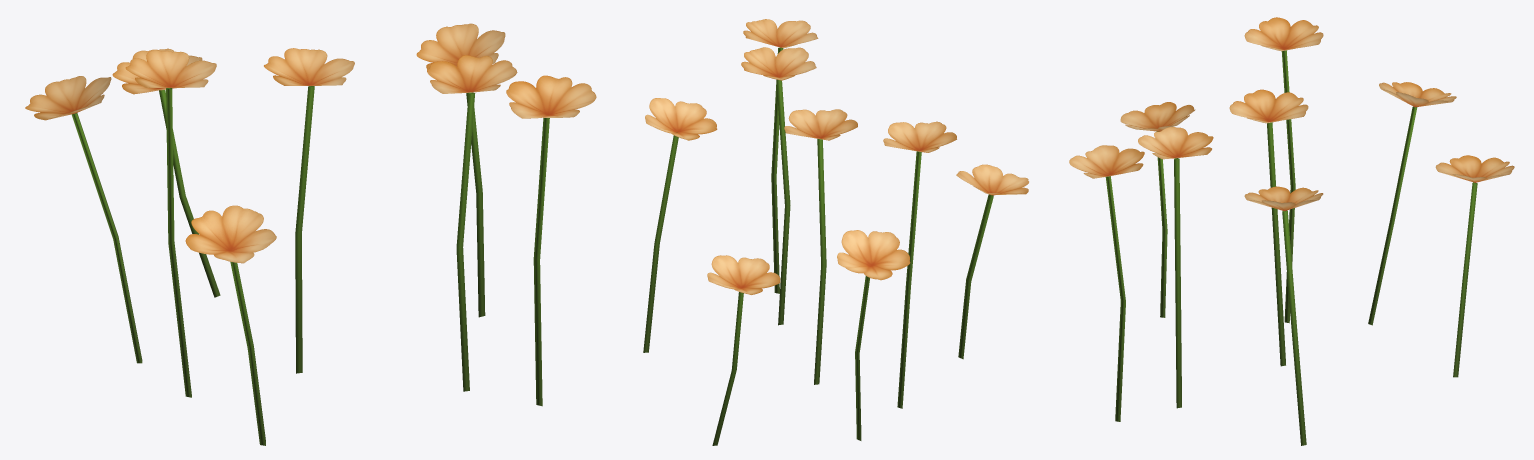
The picture shows the model from 3 angles, left to right: view 1: azimuth 30°, elevation 25°; view 2: azimuth 150°, elevation 25°; view 3: azimuth 270°, elevation 25°; orthographic projection. The views are drawn at different scales.
Visible parts, largest first — view 1: pl-flowers-white; view 2: pl-flowers-white; view 3: pl-flowers-white.
Boxes of the visible parts, x1=… form: pl-flowers-white: x1=25, y1=23, x2=596, y2=445; pl-flowers-white: x1=643, y1=19, x2=1028, y2=445; pl-flowers-white: x1=1069, y1=17, x2=1514, y2=445.
Bounding box in the file's own units: 0.7007 × 0.5655 × 0.8204.
Materials: 1 (1 with a texture image).
